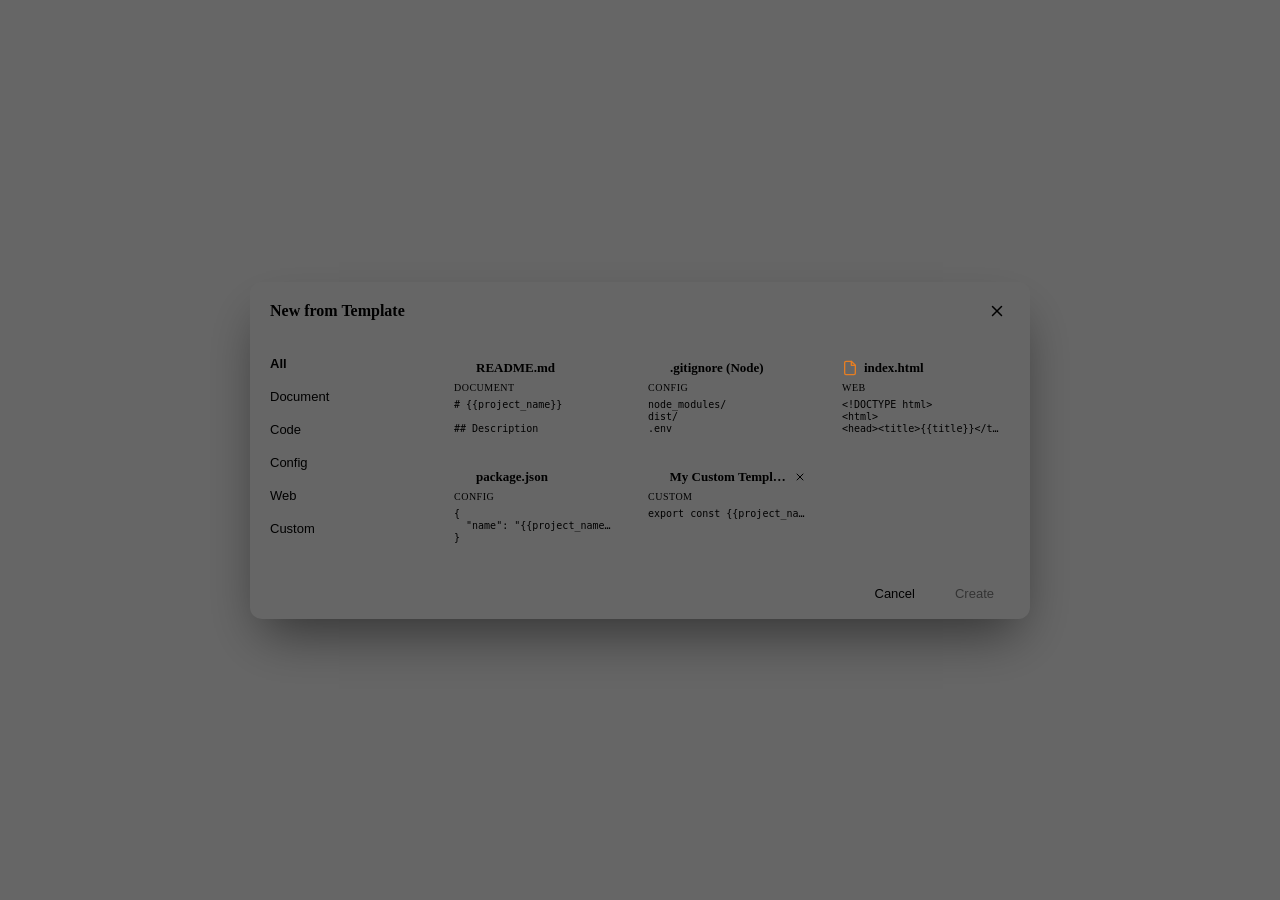
Test case: TemplatePickerDialog › Category Sidebar › shows config templates when Config category is selected
Click the button "Config": (338, 462) [258,446,418,478]
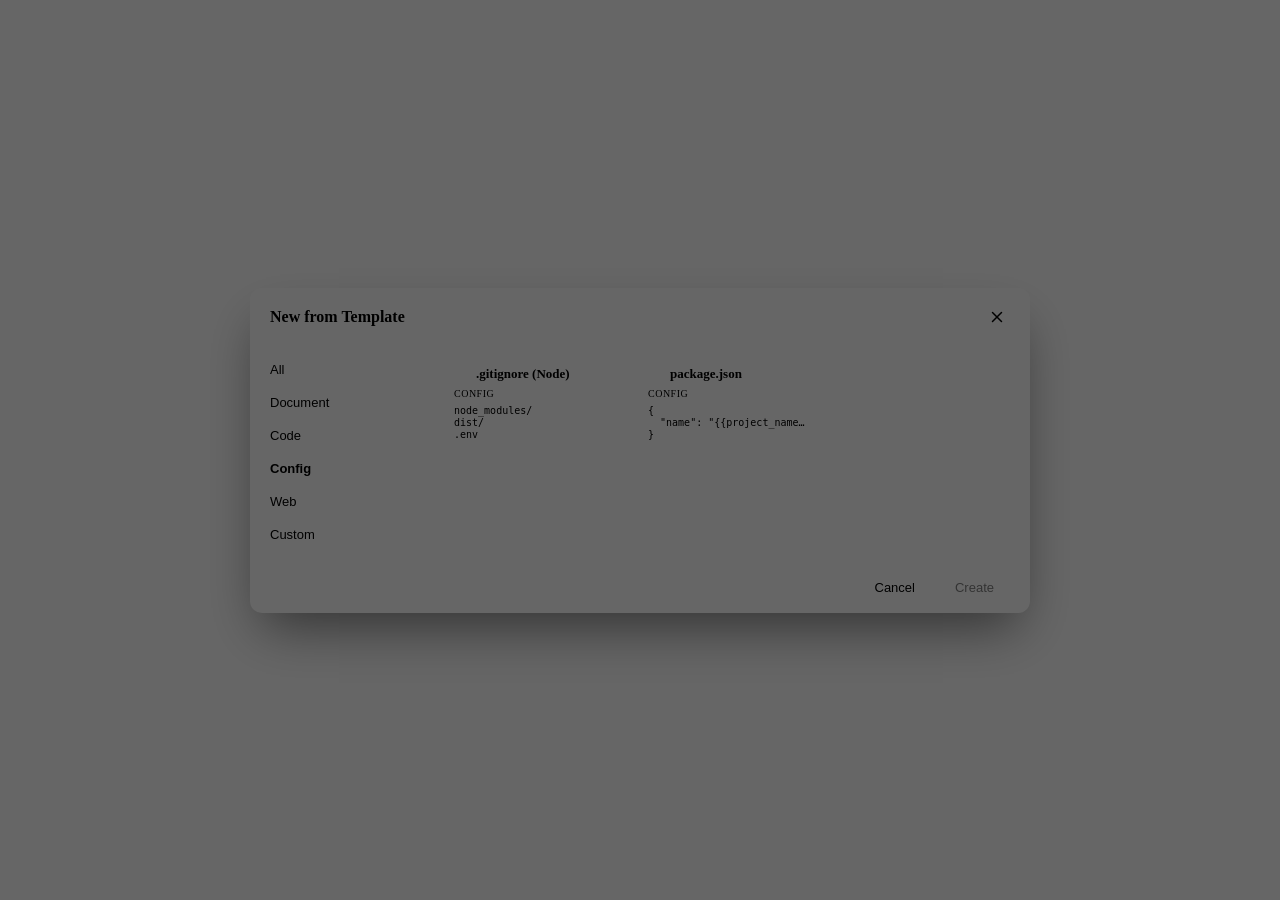
Check: the text ".gitignore (Node)" is shown, box [476,366,570,382]
Check: the button "README.md" is gone
